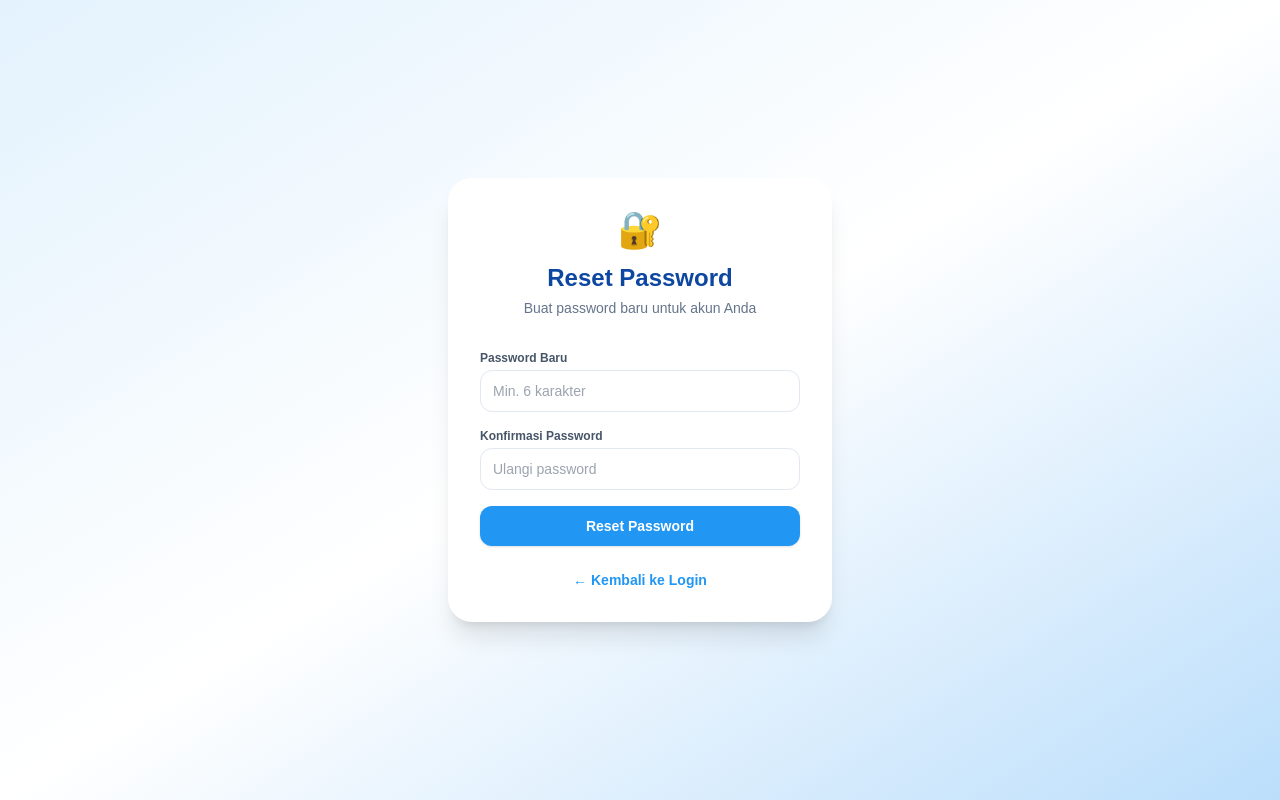
ResetPasswordPage › resets password successfully with valid token
Type "newpass123" into the password field with placeholder "Min. 6 karakter" at (640, 391), box [480,370,800,412]
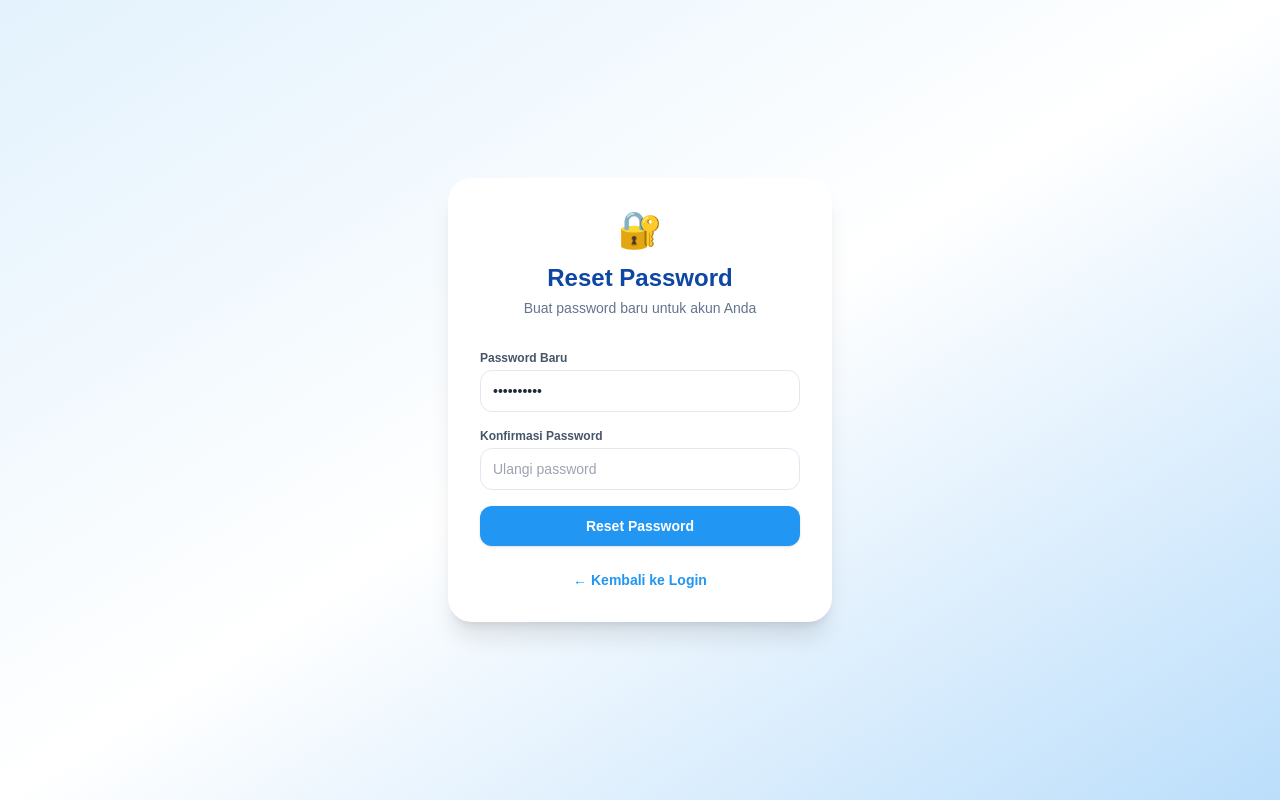
Type "newpass123" into the password field with placeholder "Ulangi password" at (640, 469), box [480,448,800,490]
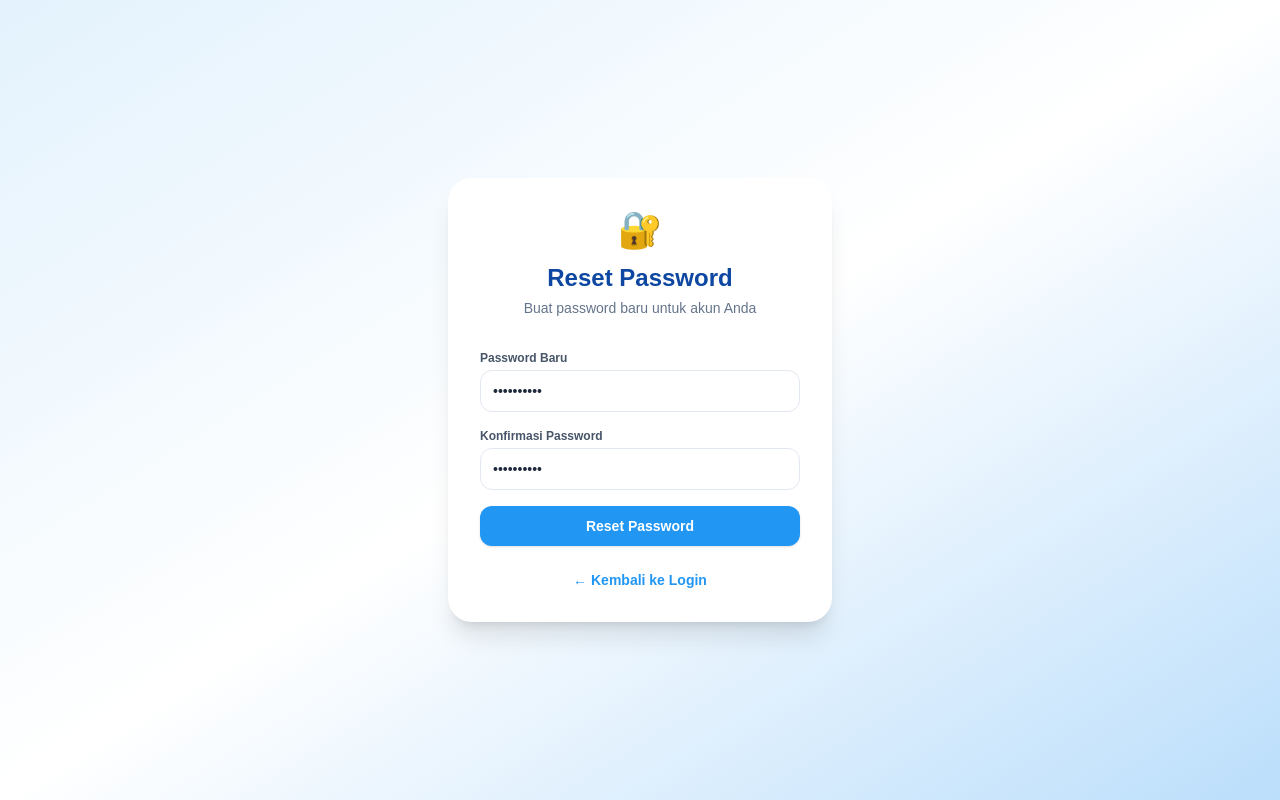
Click the button "Reset Password" at (640, 526), box [480,506,800,546]
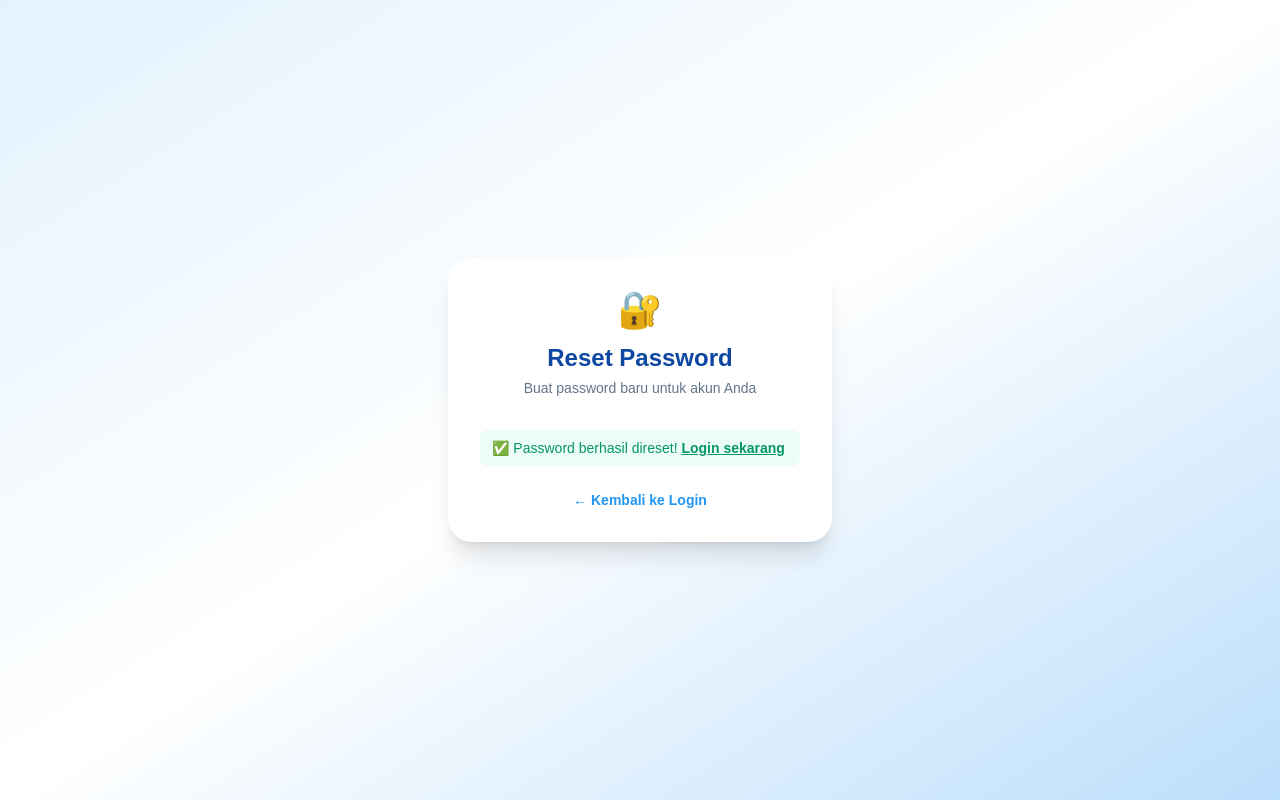
expect the text "✅ Password berhasil direset! Login sekarang" is shown: met, box [480,430,800,466]
